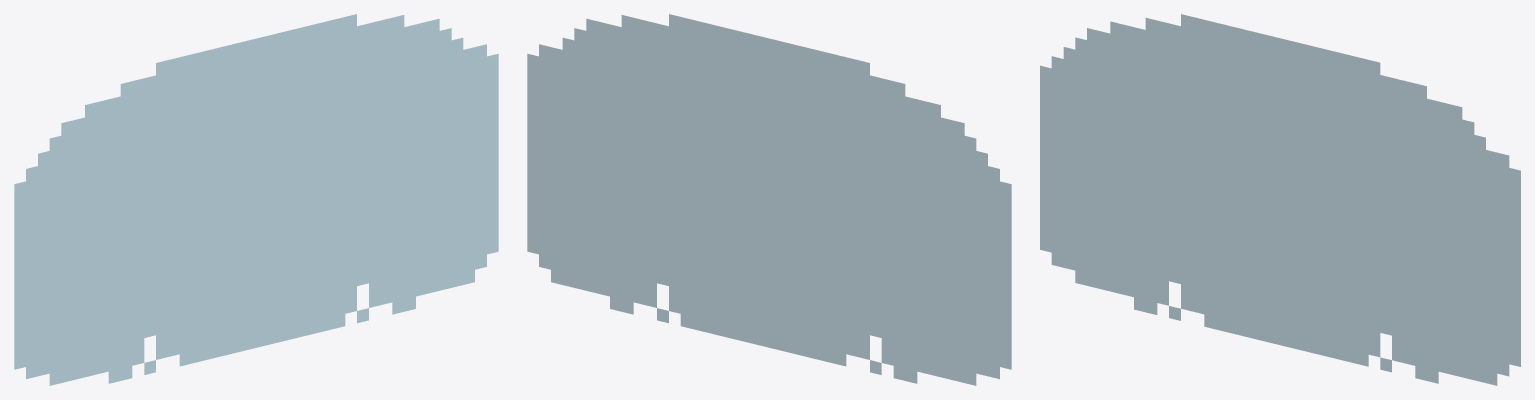
File: wp_water_178.obj
The picture shows the model from 3 angles, left to right: view 1: azimuth 30°, elevation 25°; view 2: azimuth 150°, elevation 25°; view 3: azimuth 330°, elevation 25°; orthographic projection.
Bounding box in the file's own units: 0.6001 × 0.366 × 0.
1 material, 1 textured.
